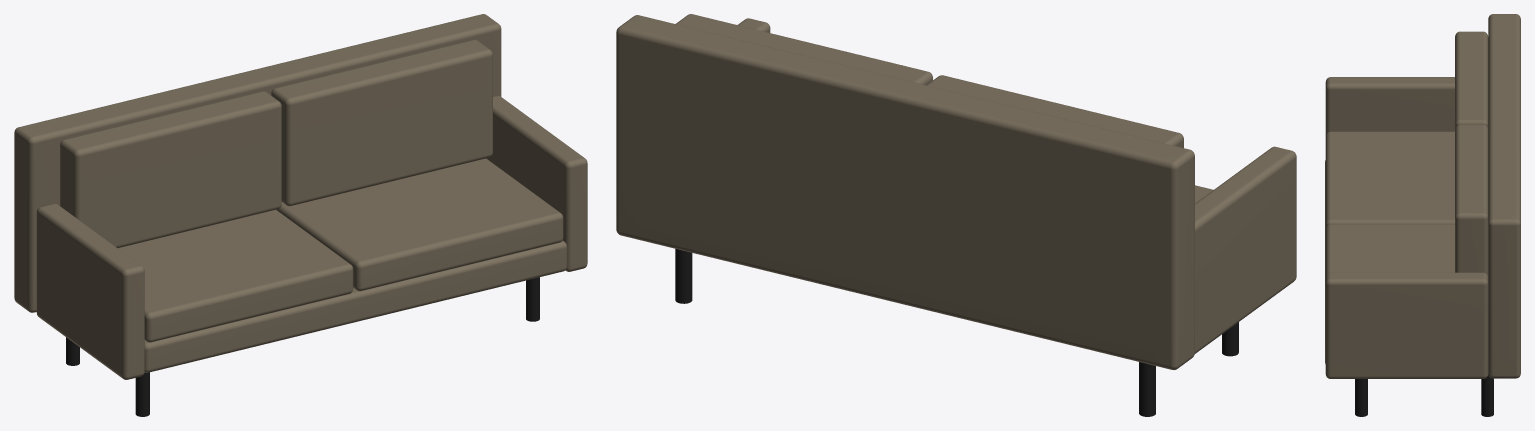
Rendered from Sofa.fbx.
The picture shows the model from 3 angles, left to right: view 1: azimuth 30°, elevation 25°; view 2: azimuth 150°, elevation 25°; view 3: azimuth 270°, elevation 25°; orthographic projection. The views are drawn at different scales.
Visible parts, largest first — view 1: polySurface9; view 2: polySurface9; view 3: polySurface9.
Boxes of the visible parts, bbox=[...] form: polySurface9: bbox=[14, 14, 587, 416]; polySurface9: bbox=[616, 14, 1296, 416]; polySurface9: bbox=[1325, 14, 1520, 416].
Bounding box in the file's own units: 22.9 × 10.79 × 9.07.
